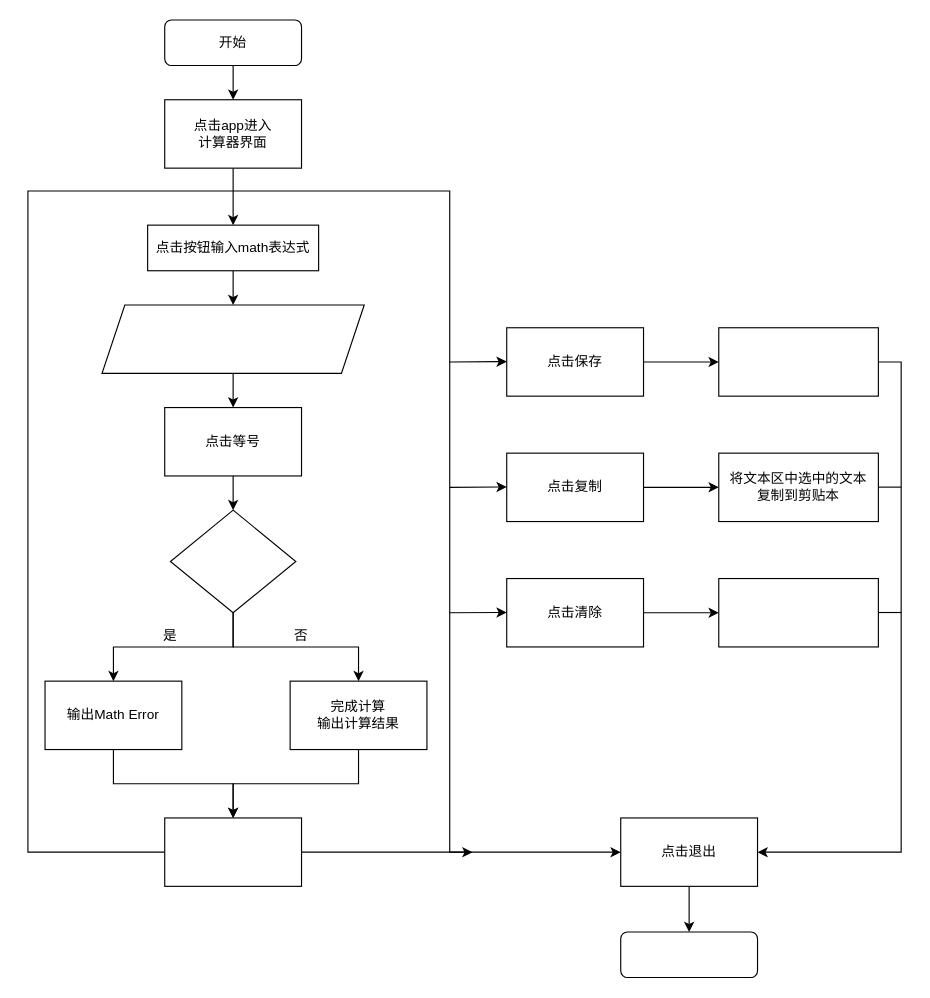
Image size: 930x998. Some labels were removed from this diagram. The centre of each missing label's shape, as x and y in pixels:
Math中出现 除以0的情况: the point at 232,561
完成String类型的Math表达式输入: the point at 232,338
完成一次计算: the point at 233,851
将文本区中的全部计算 过程保存到手机sd卡的math.txt文件: the point at 798,361
清除文本区的全部内容: the point at 798,612
结束: the point at 689,954
